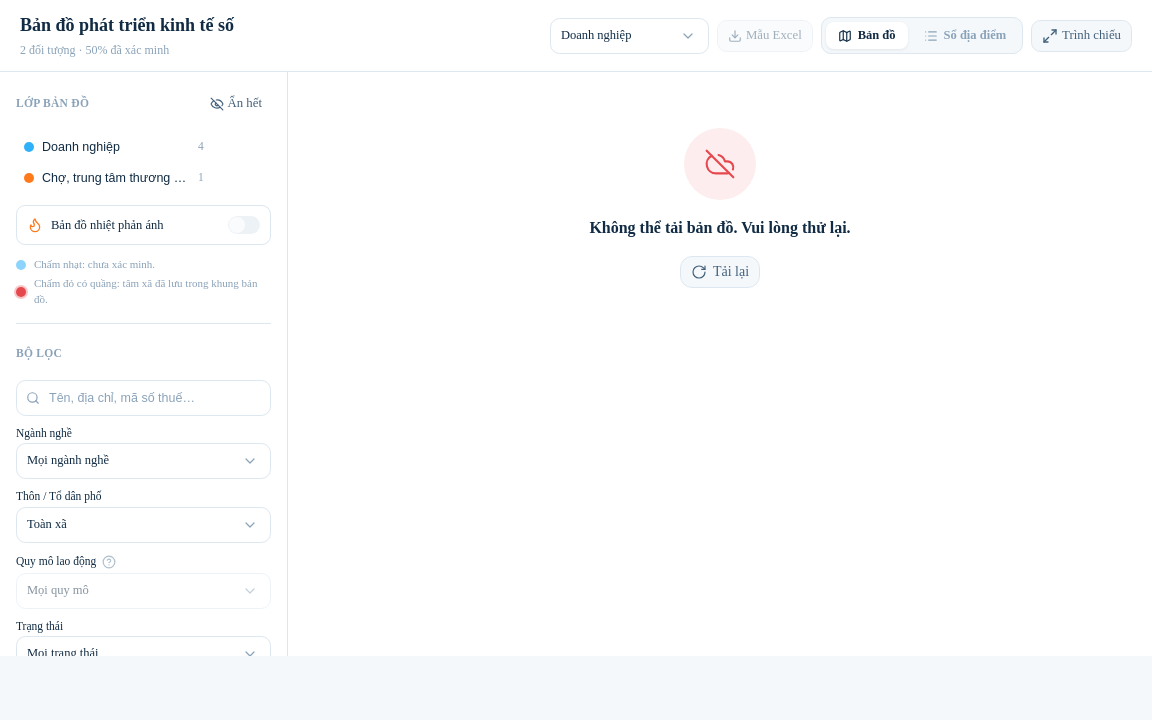
Test case: Sổ địa điểm › a group header folds and unfolds its rows
Click the button "Sổ địa điểm": {"x": 965, "y": 36} [912,22,1018,49]
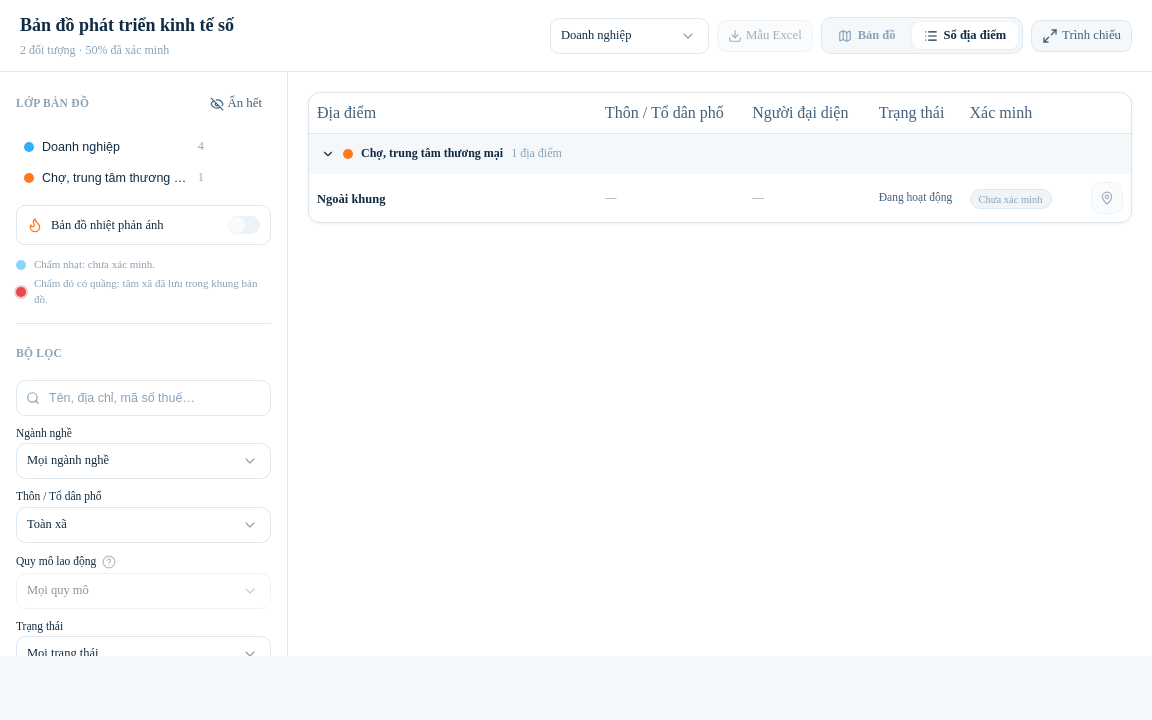
Check: the text "Ngoài khung" is shown, box [317,192,385,206]
Click the button "Chợ, trung tâm thương mại 1 địa điểm": {"x": 432, "y": 153} [309,134,1131,174]
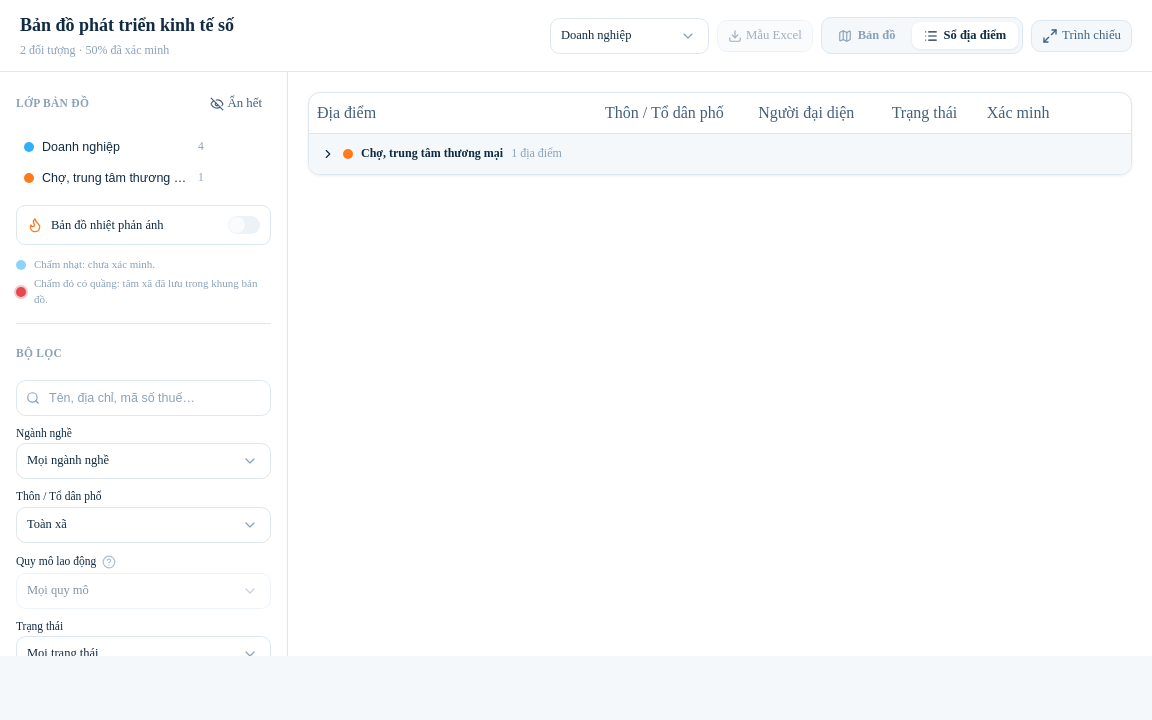
Check: the button "Chợ, trung tâm thương mại 1 địa điểm" is collapsed
Check: the text "Ngoài khung" is gone
Click the button "Chợ, trung tâm thương mại 1 địa điểm": {"x": 432, "y": 153} [309,134,1131,174]
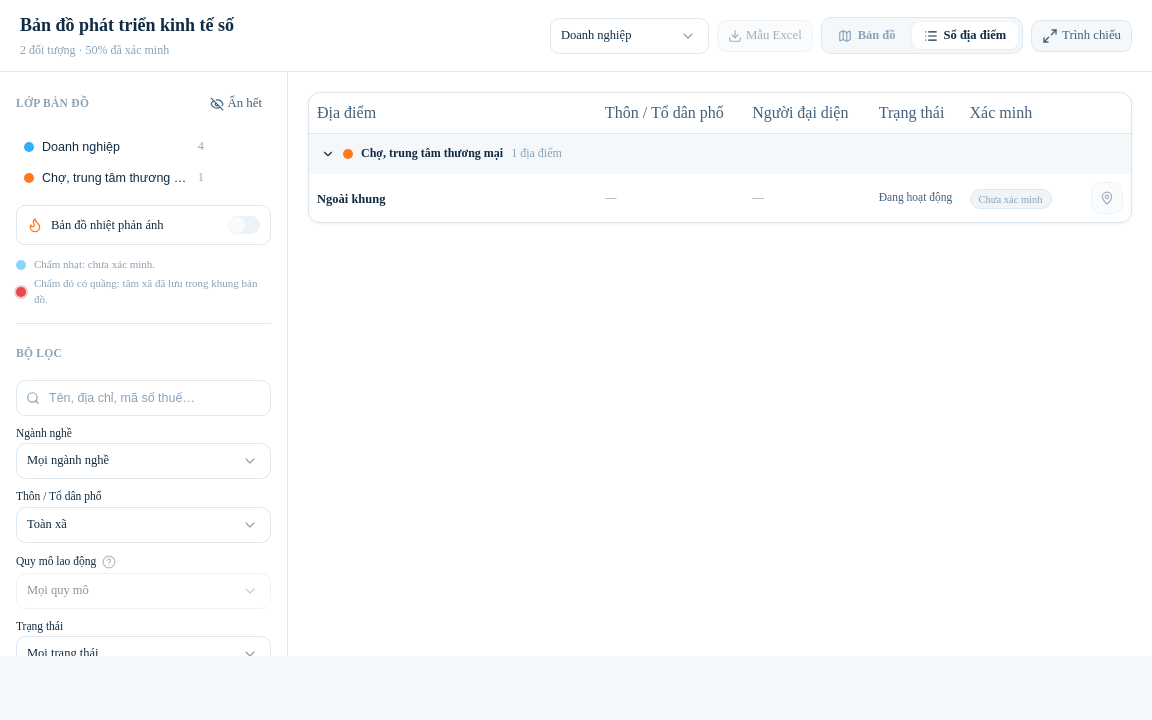
Check: the text "Ngoài khung" is shown, box [317,192,385,206]
